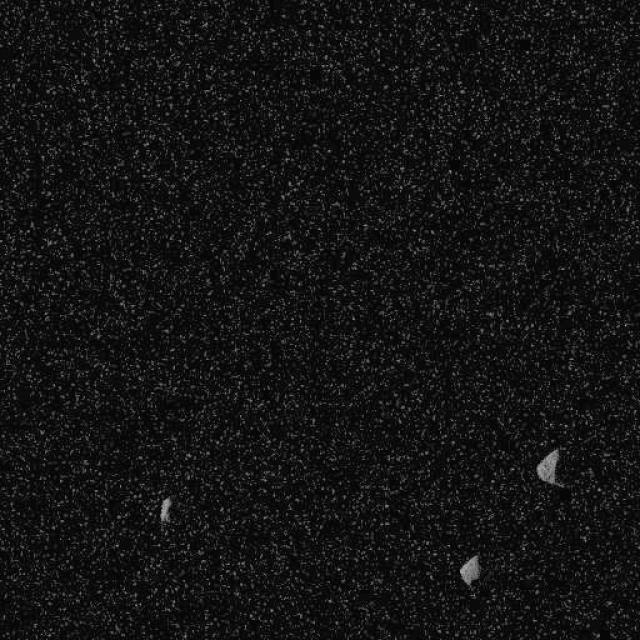D2: (534, 447, 565, 488), (458, 554, 482, 588), (158, 494, 174, 524)
